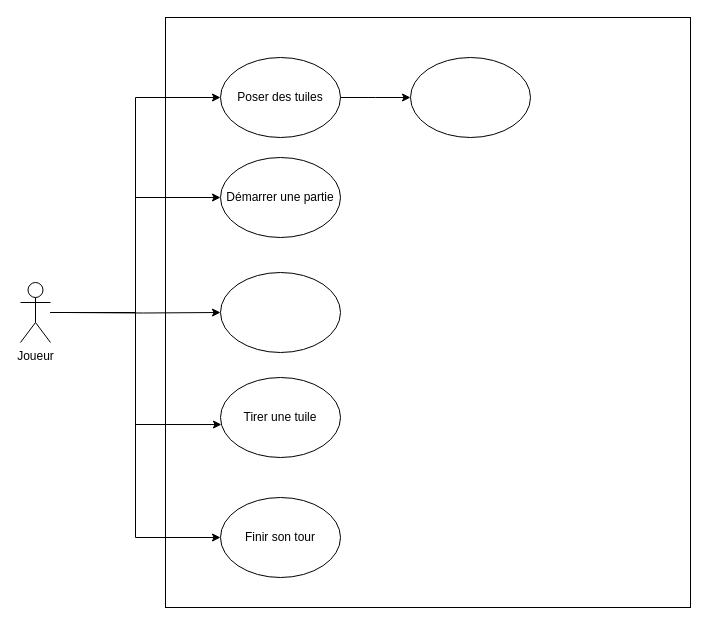
Some shapes in this 708 by 625 pixel diagram are drawn without their labels. Here are the shapes that lost their labels. From the top down, the centre of each, then its label:
(470,97): Réarranger les tuiles
(280,312): Afficher la main
